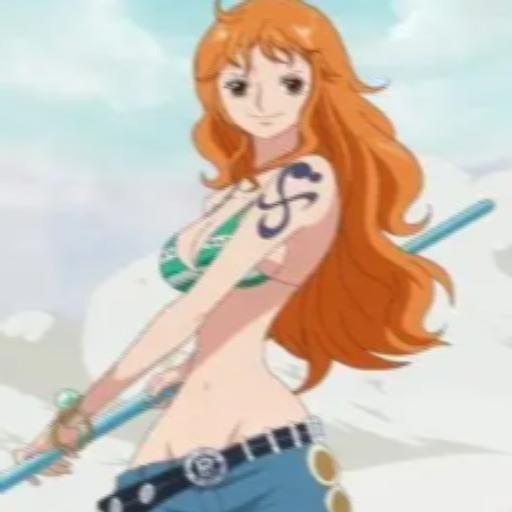Nami: (4, 1, 459, 512)
